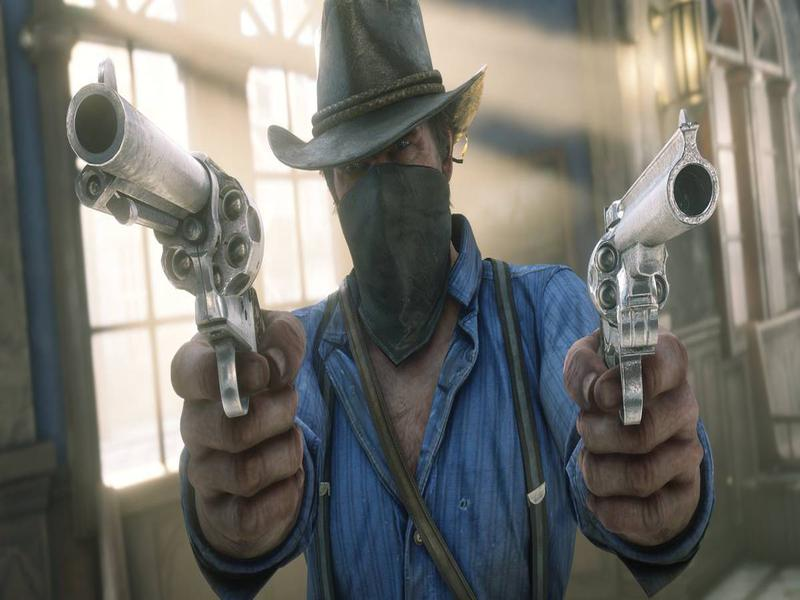Revolver: (45, 34, 291, 426), (574, 94, 713, 440)
